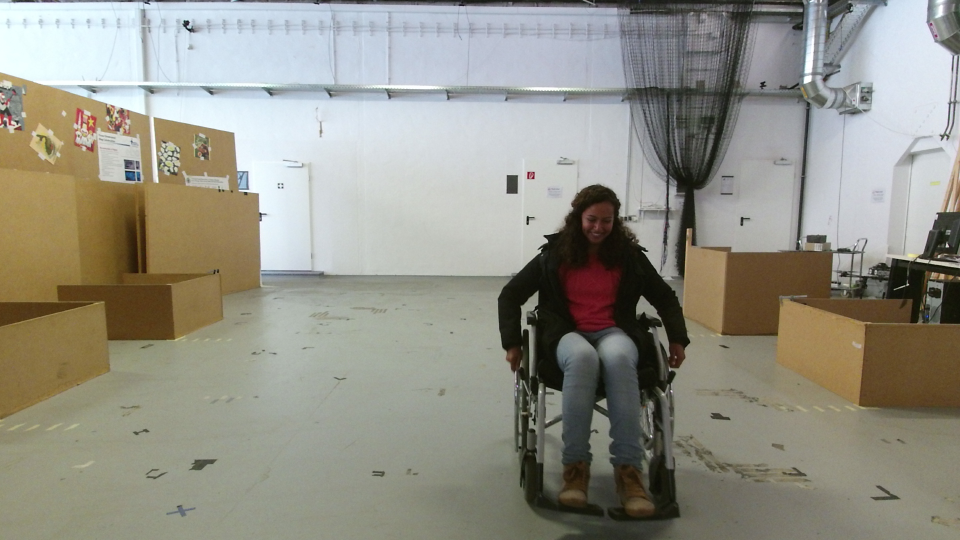wheelchair: (495, 181, 681, 522)
